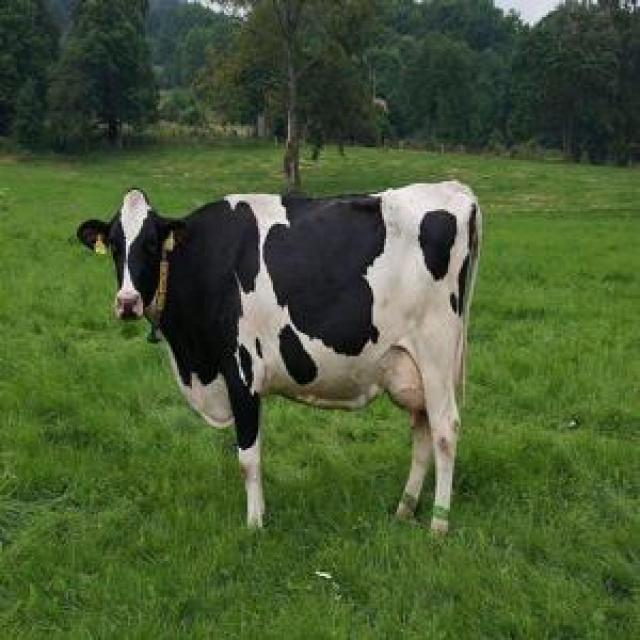cow: (78, 181, 481, 530)
